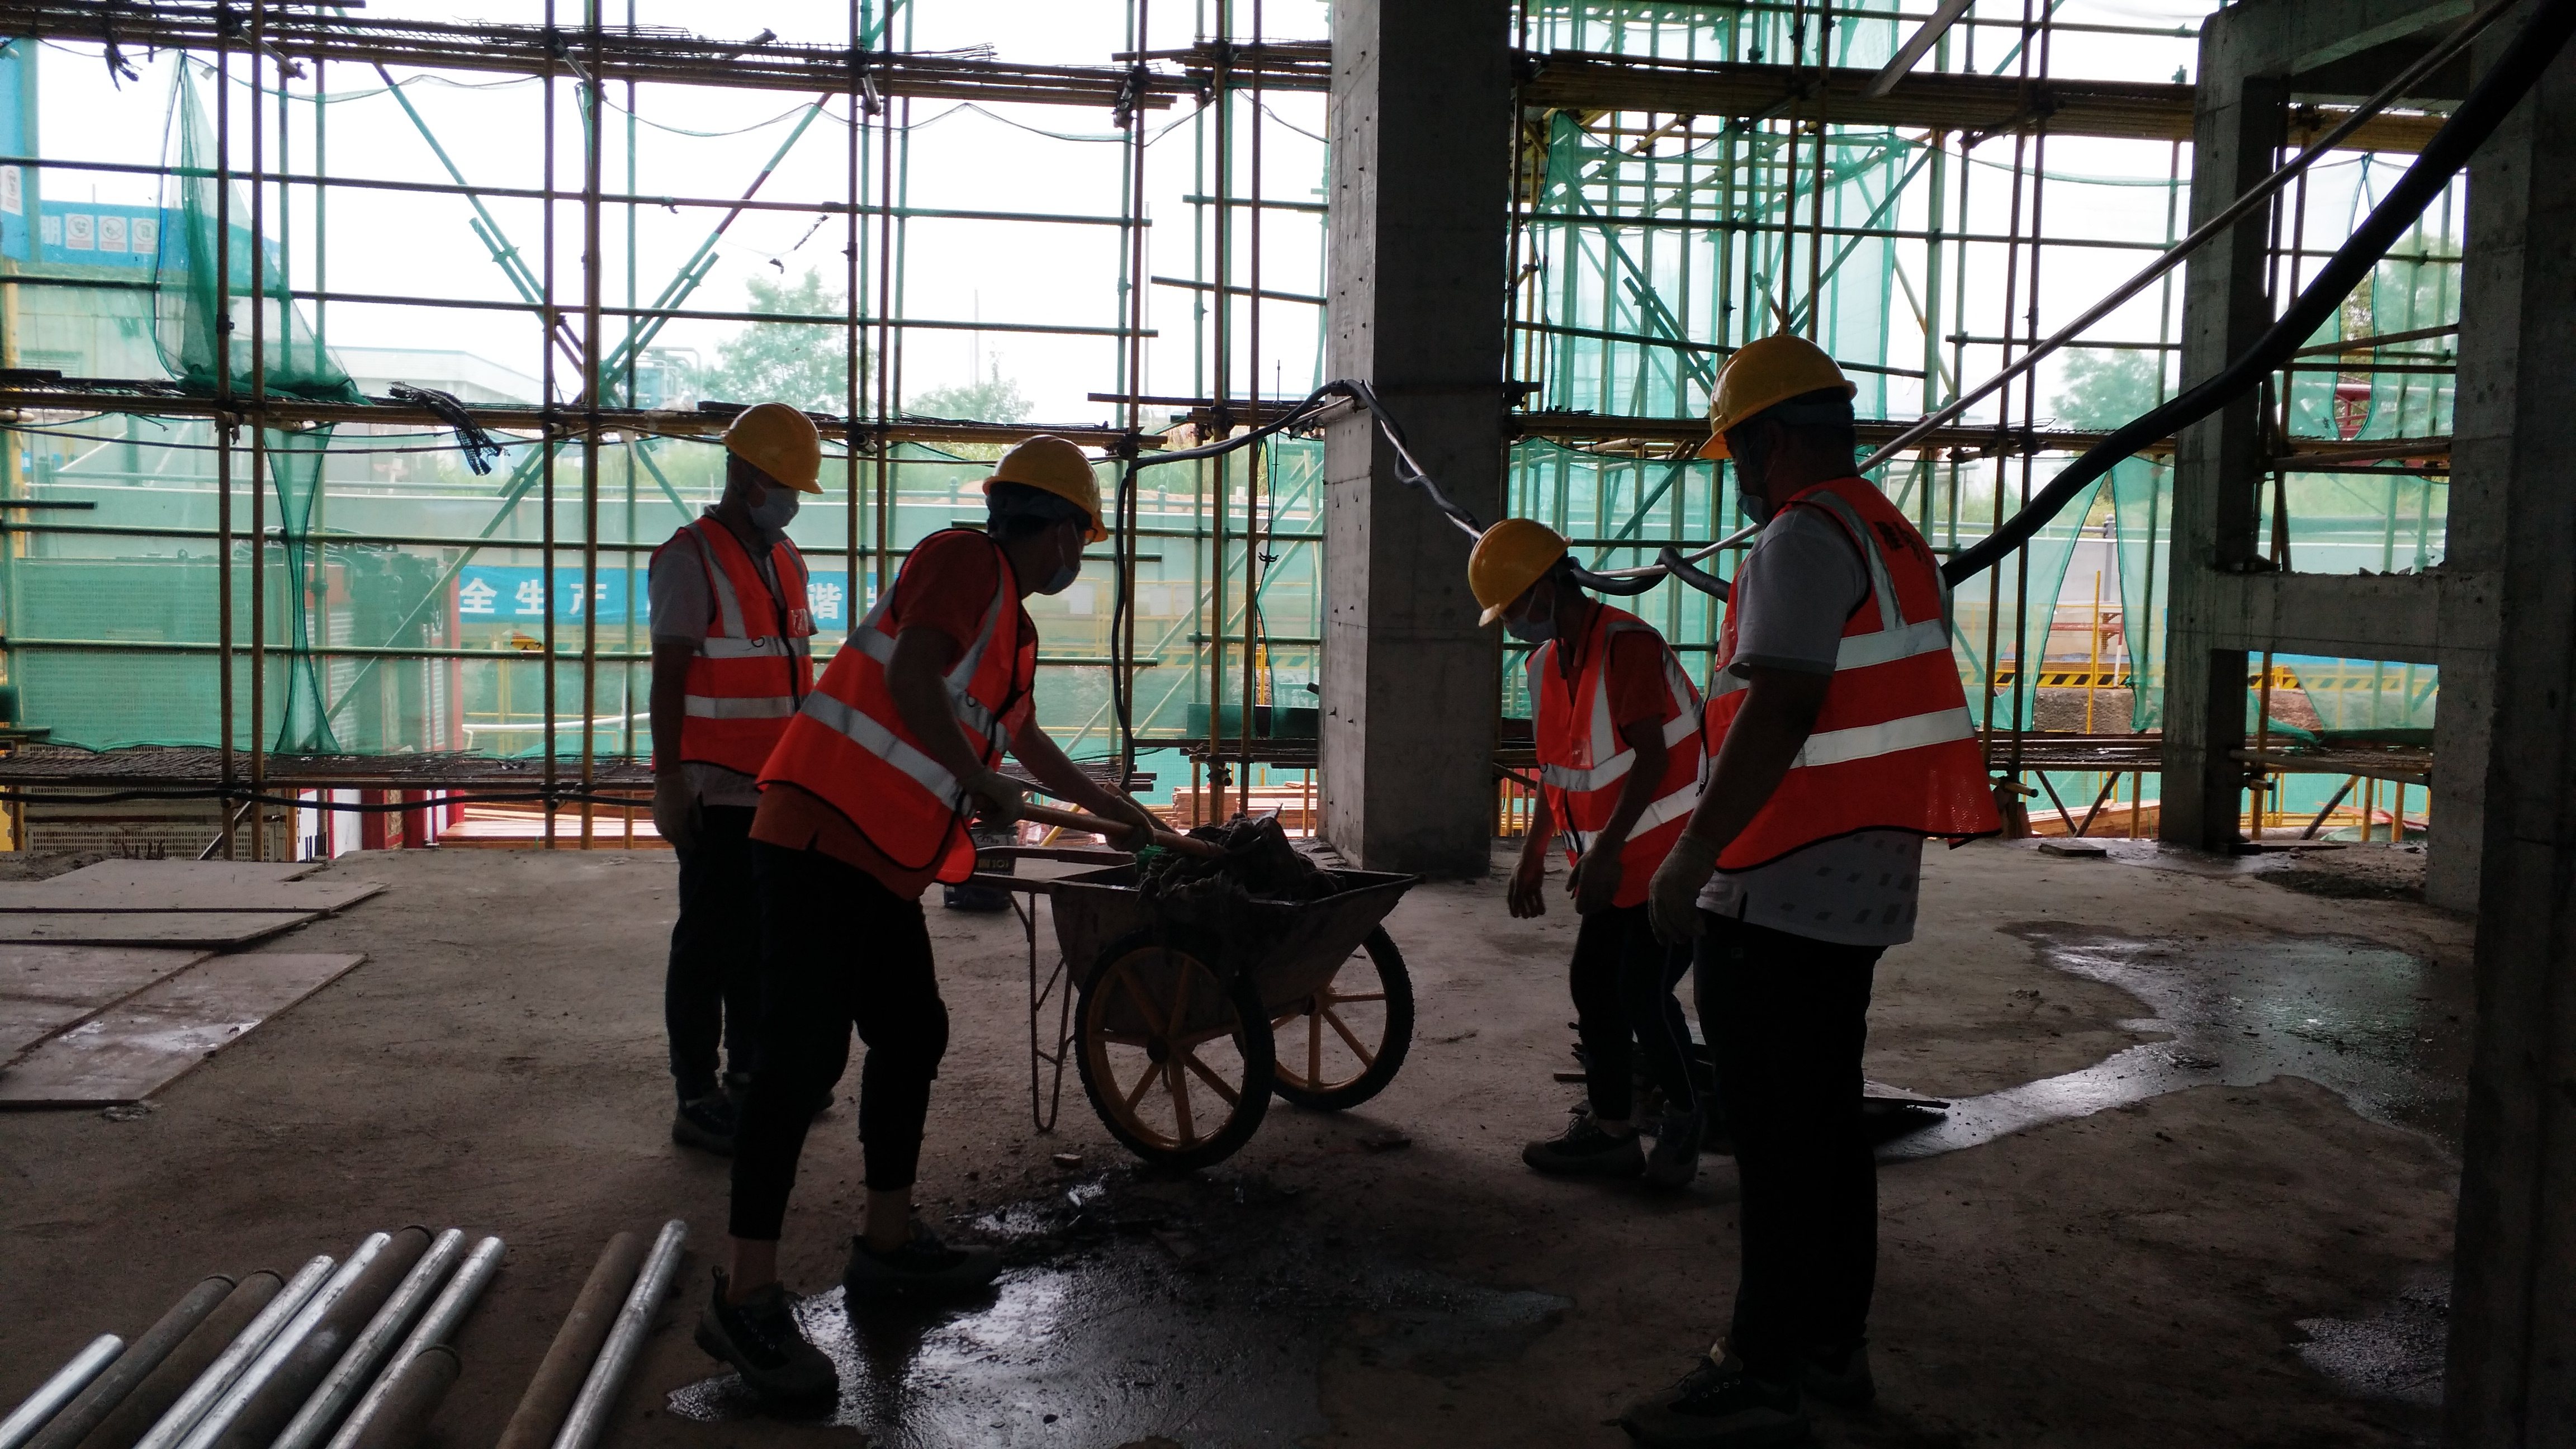handcart: (878, 723, 1425, 1114)
helmet: (1704, 337, 1859, 417), (714, 406, 839, 505), (988, 430, 1107, 519), (1449, 518, 1554, 611)
person: (718, 449, 1151, 1198), (1706, 332, 1991, 1356), (1457, 512, 1703, 1110), (632, 399, 832, 1099)
slogan: (453, 575, 643, 624)
vest: (1712, 486, 1991, 894), (765, 557, 1031, 846), (1526, 633, 1708, 899), (671, 510, 817, 793)
